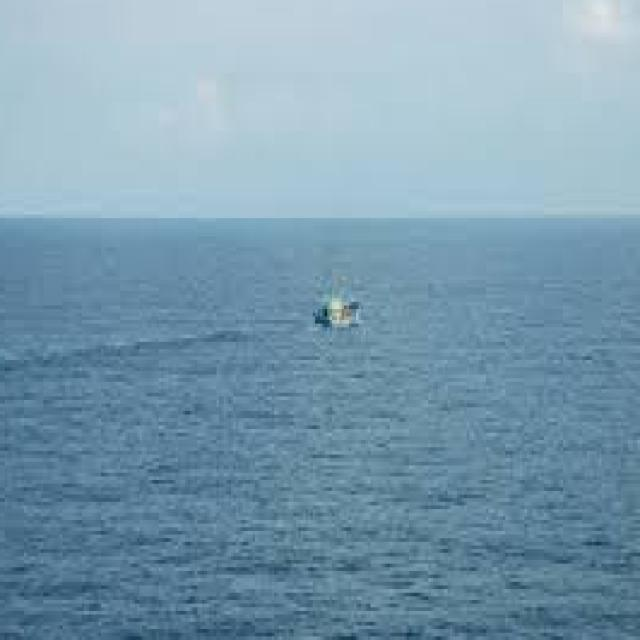fishing boat: (289, 281, 366, 340)
